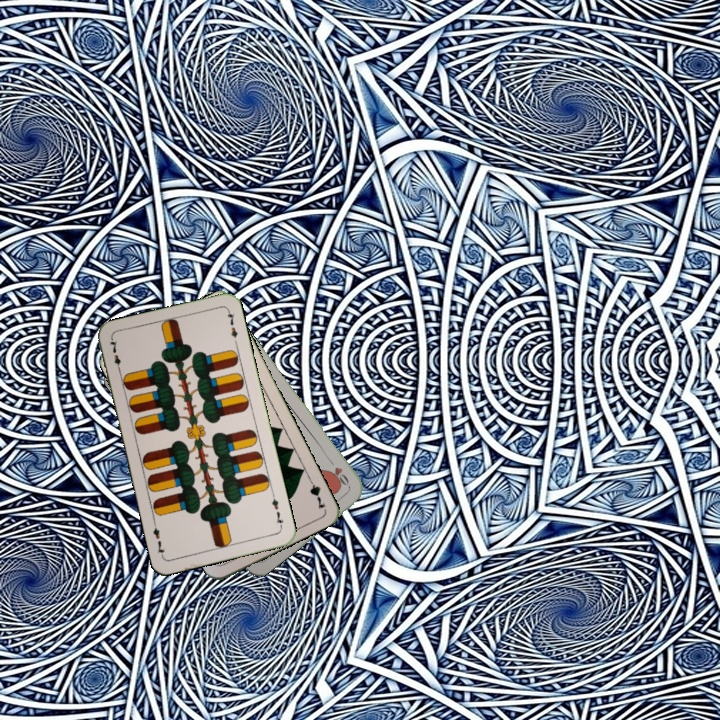E7: (267, 490, 286, 530), (105, 335, 124, 375)
G7: (304, 472, 328, 512)
HO: (325, 454, 353, 491)
